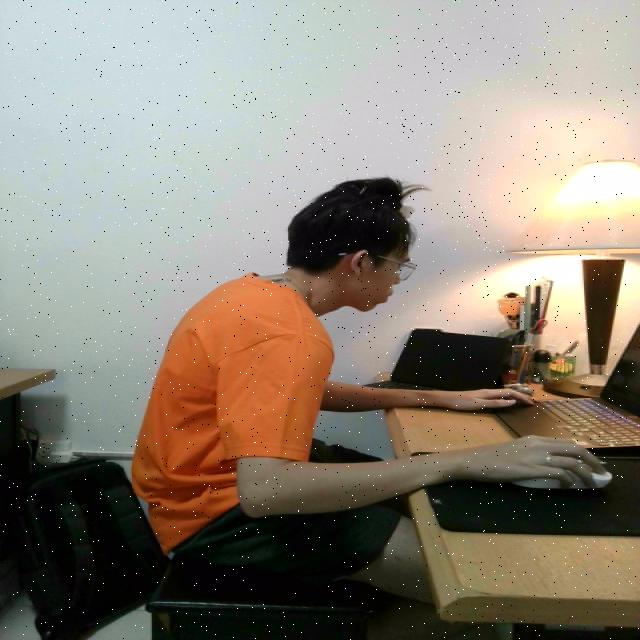Bad: (128, 170, 429, 595)
